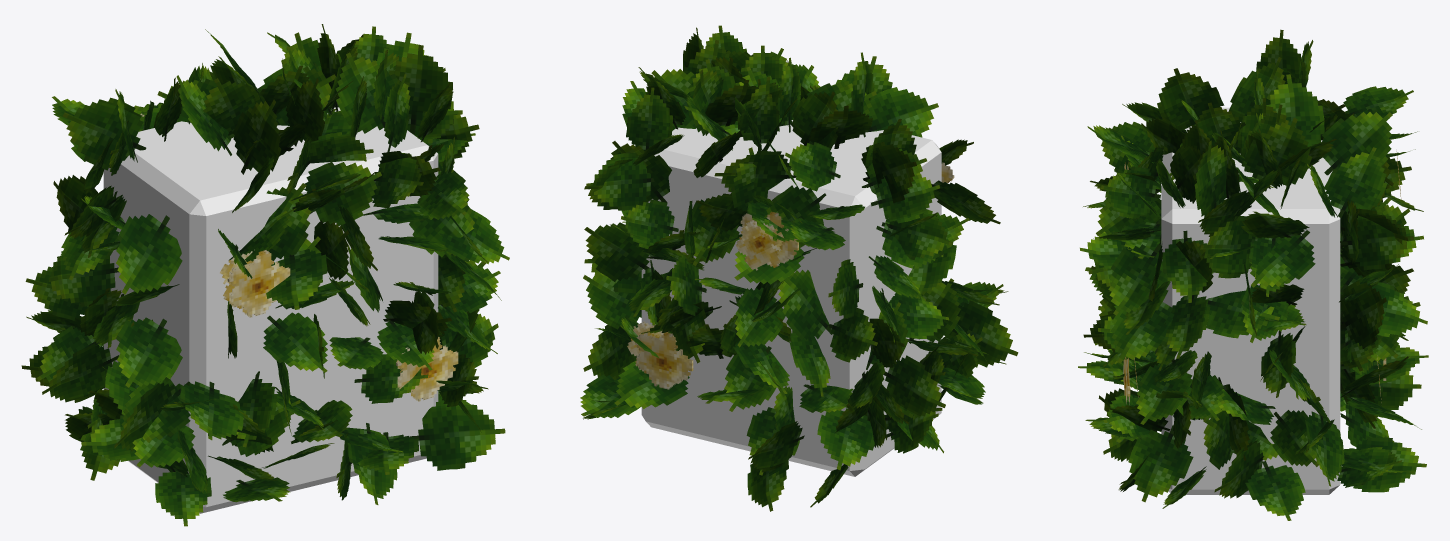
The model's file is bush.fbx.
3 views of the same model, side by side, from view 1: azimuth 30°, elevation 25°; view 2: azimuth 150°, elevation 25°; view 3: azimuth 270°, elevation 25° (orthographic). The views are drawn at different scales.
Parts seen in each view (by area): view 1: bush, bursh flower.002, bursh flower.003; view 2: bush, bursh flower, bursh flower.001; view 3: bush.
Part boxes in pixels (left/top/right/bottom): bush: left=21, top=24, right=509, bottom=526; bursh flower.002: left=227, top=250, right=290, bottom=317; bursh flower.003: left=396, top=337, right=458, bottom=401; bush: left=580, top=25, right=1018, bottom=511; bursh flower: left=635, top=332, right=693, bottom=389; bursh flower.001: left=740, top=211, right=798, bottom=263; bush: left=1078, top=29, right=1428, bottom=520.
Size of the model in its own units: 249 by 254 by 205.
